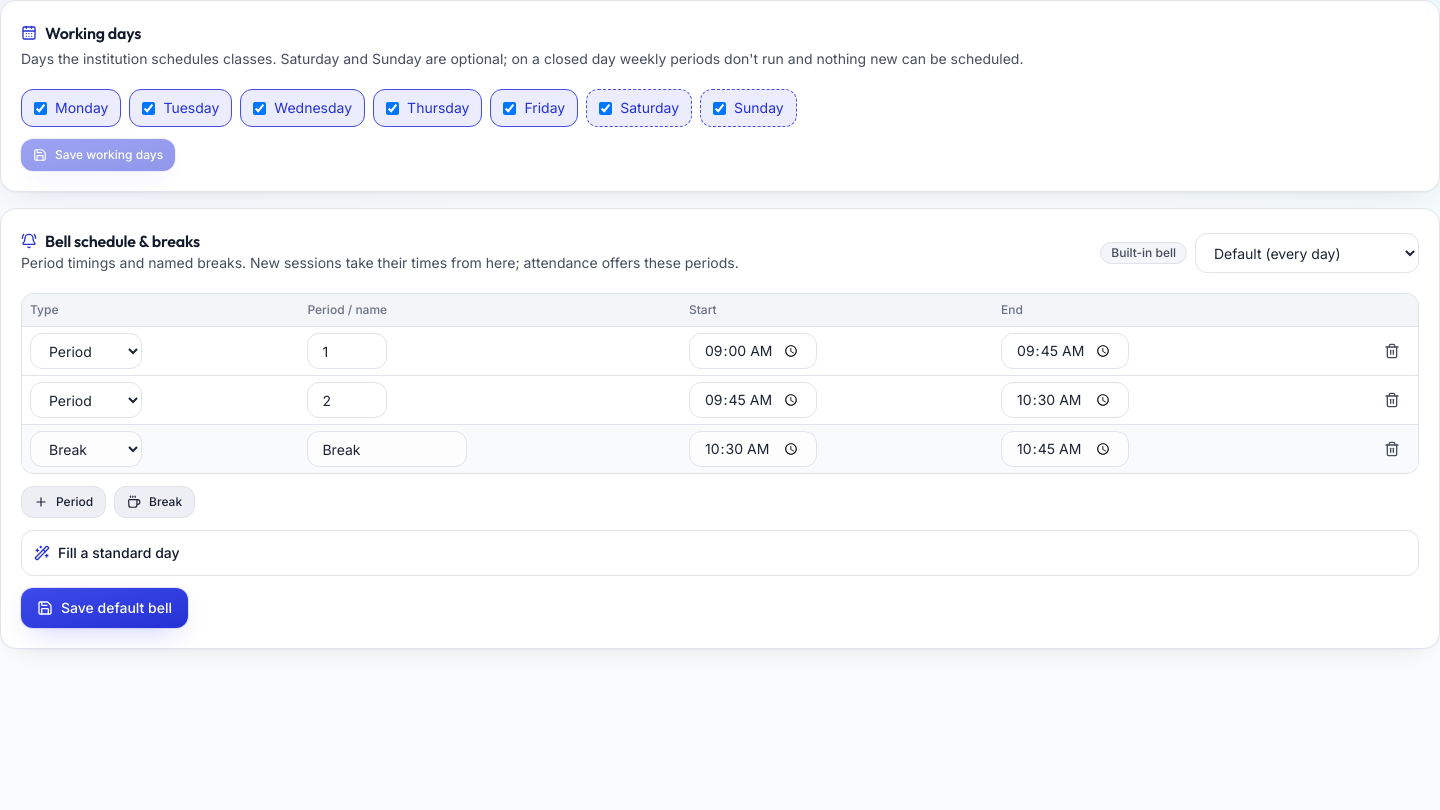
BellSchedulePanel › edits the bell, blocks overlaps before saving, and saves working days
This screenshot has width=1440, height=810.
expect the text "Built-in bell" is shown: met, box top-left (1100, 242), bottom-right (1187, 264)
Replace the text in the time field named "Row 2 start" with "09:30". click: (753, 400)
box: top-left (689, 382), bottom-right (817, 418)
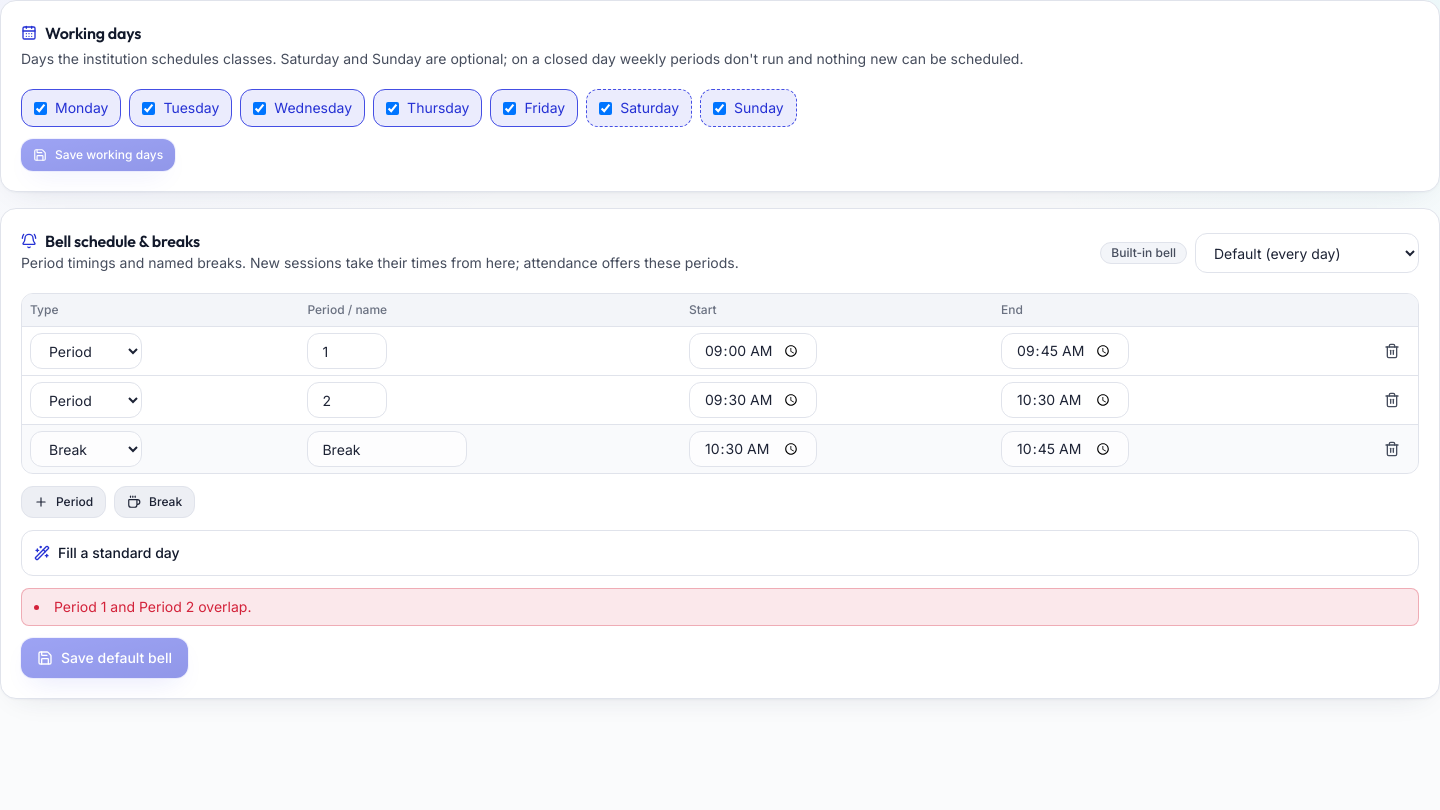
expect the list item "Period 1 and Period 2 overlap." is shown: met, box top-left (54, 598), bottom-right (251, 615)
expect the button "Save default bell" is disabled: met, box top-left (21, 638), bottom-right (188, 678)
Replace the text in the time field named "Row 2 start" with "09:45". click: (753, 400)
box: top-left (689, 382), bottom-right (817, 418)
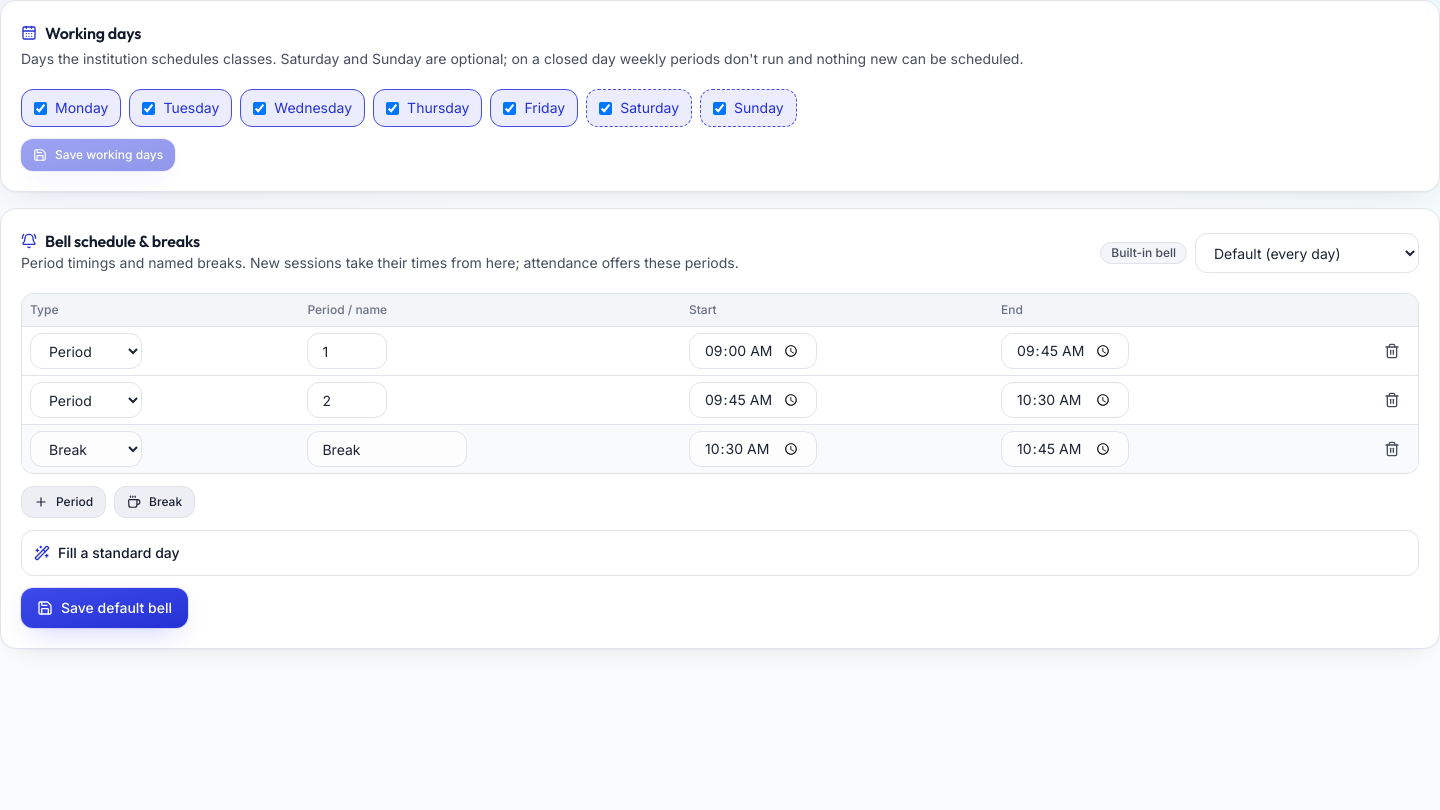
Click the button "Save default bell". click: click(104, 608)
box: top-left (21, 588), bottom-right (188, 628)
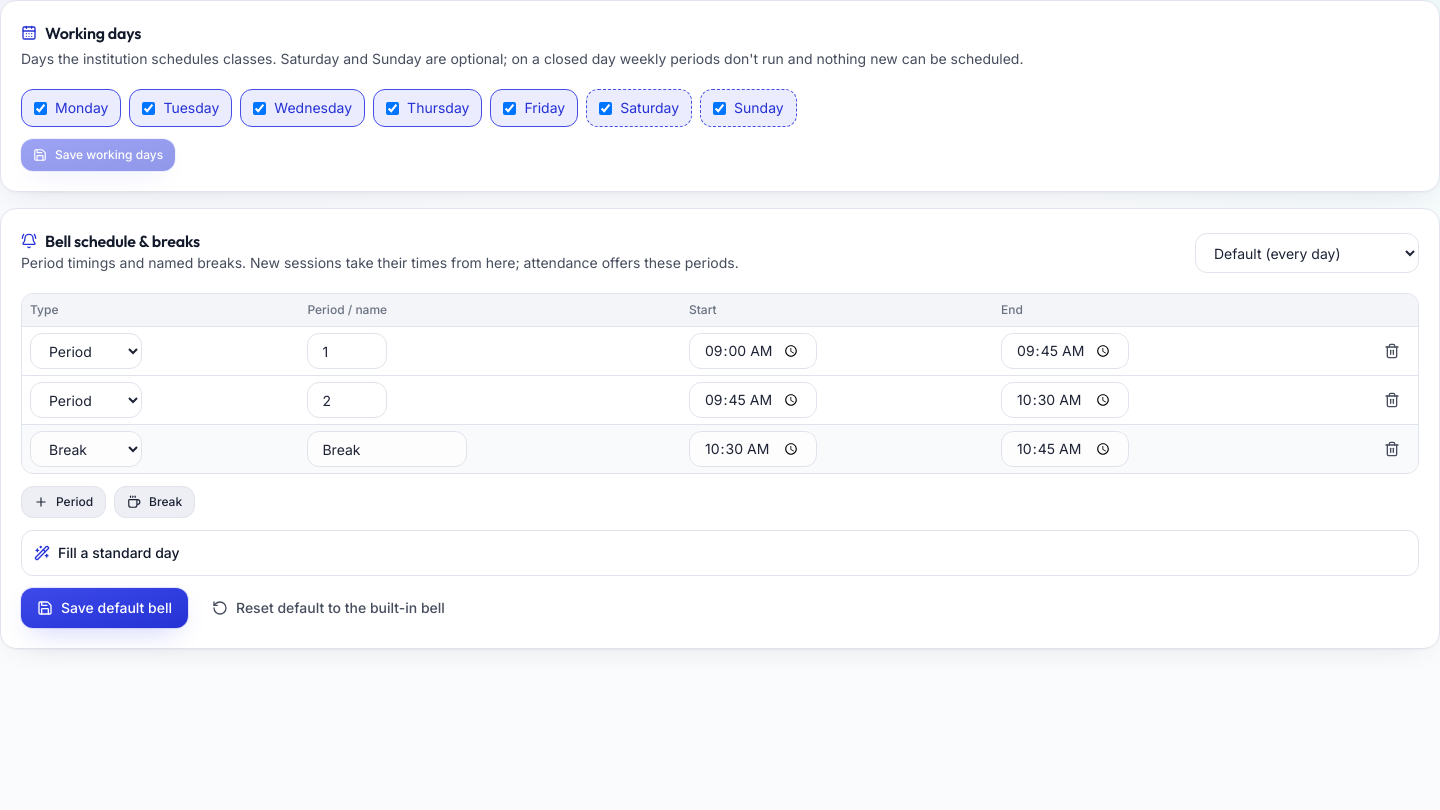
Click the checkbox labelled "Sunday". click: click(720, 108)
box: top-left (713, 102), bottom-right (726, 114)
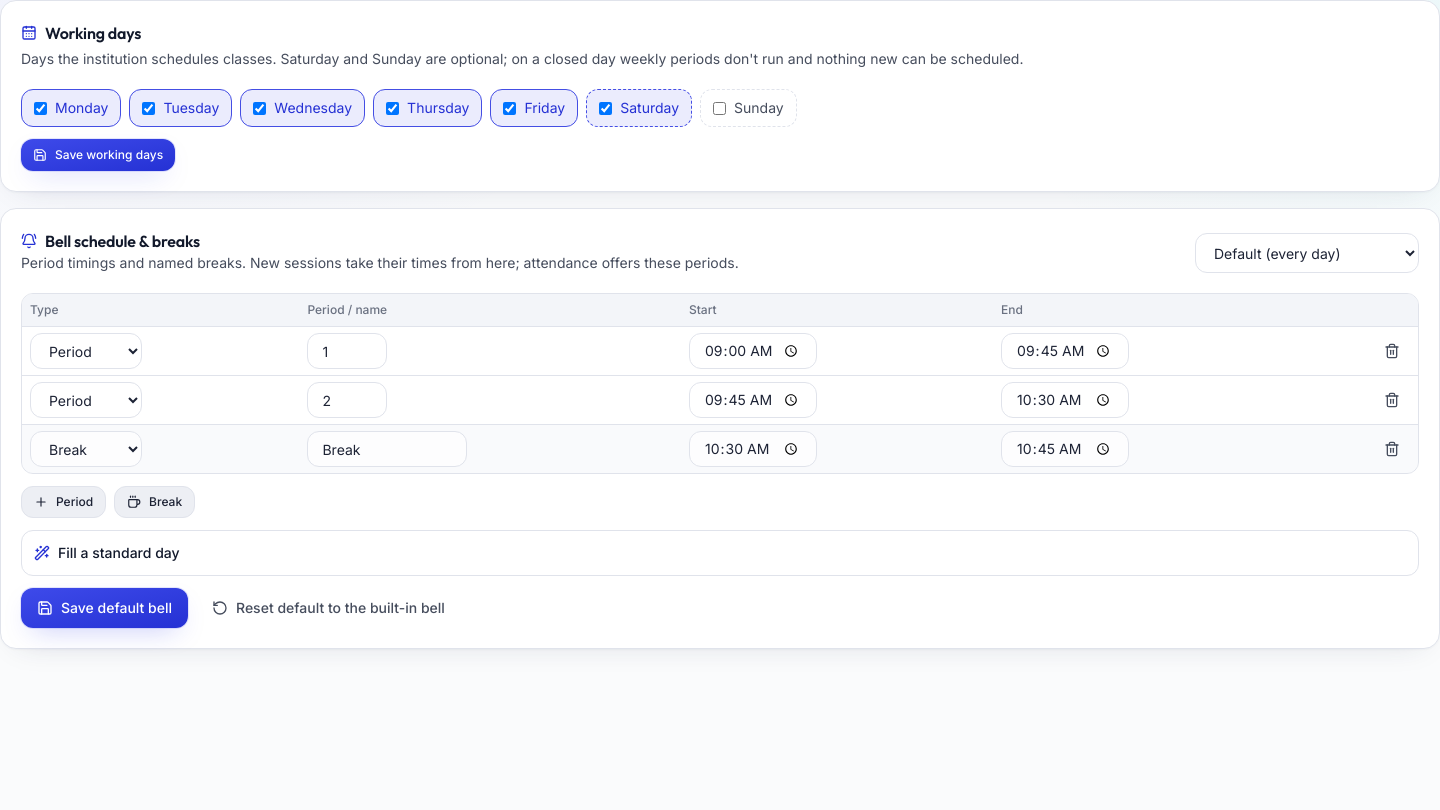
Click the button "Save working days". click: click(98, 155)
box: top-left (21, 139), bottom-right (175, 171)
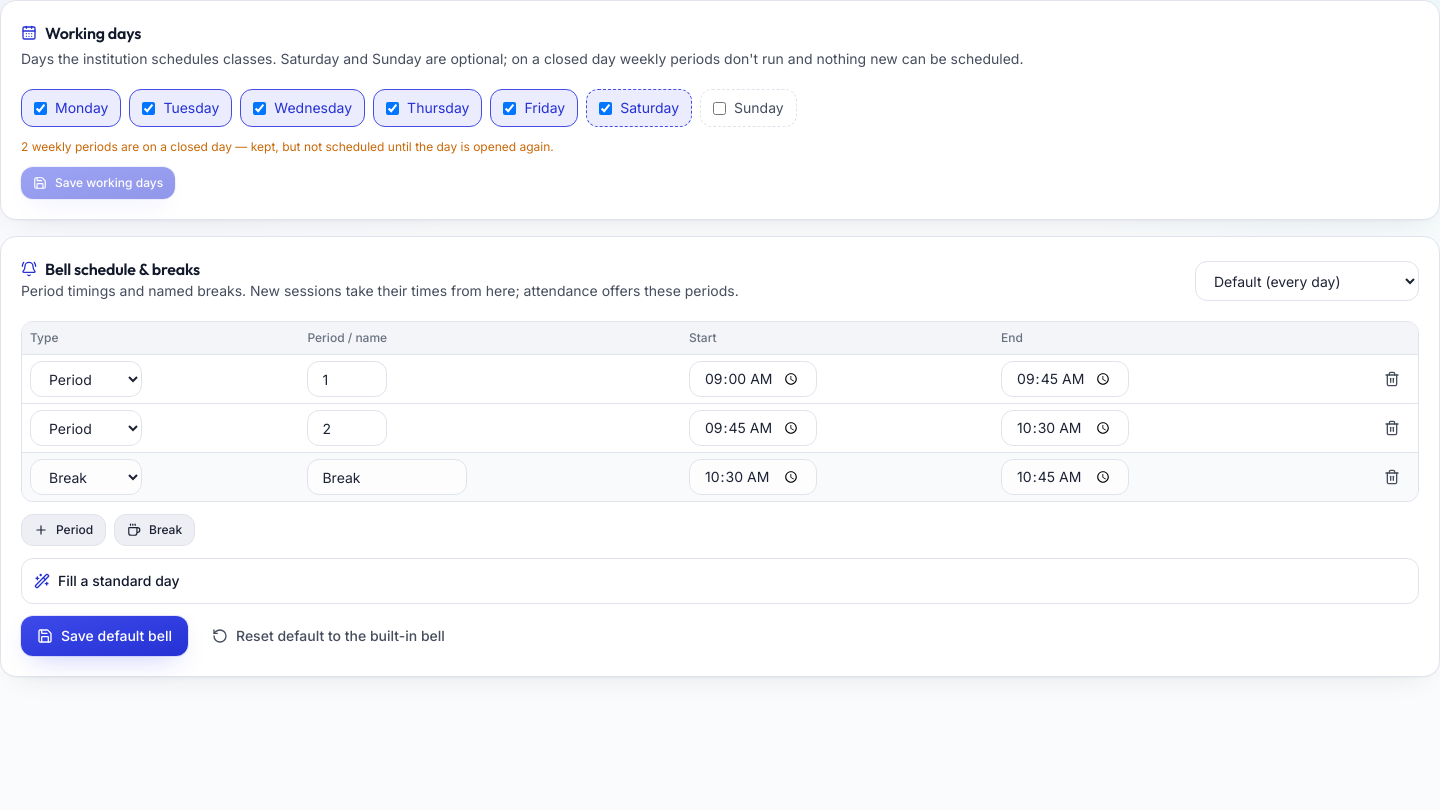
expect the text "2 weekly periods are on a closed day" is shown: met, box top-left (21, 139), bottom-right (554, 154)
